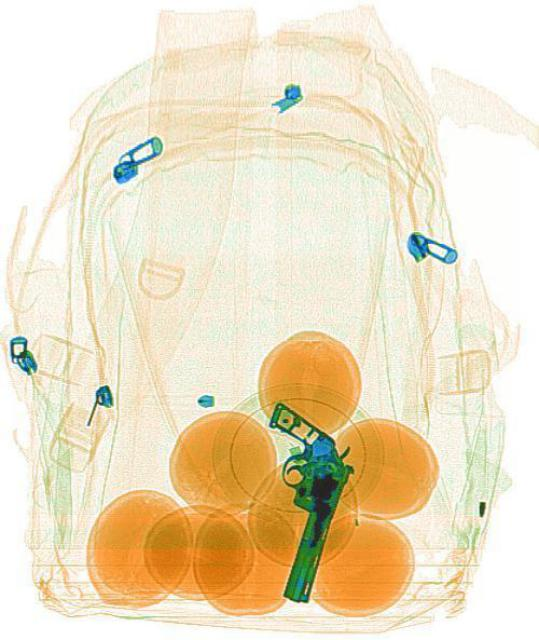Gun: (216, 398, 361, 606)
